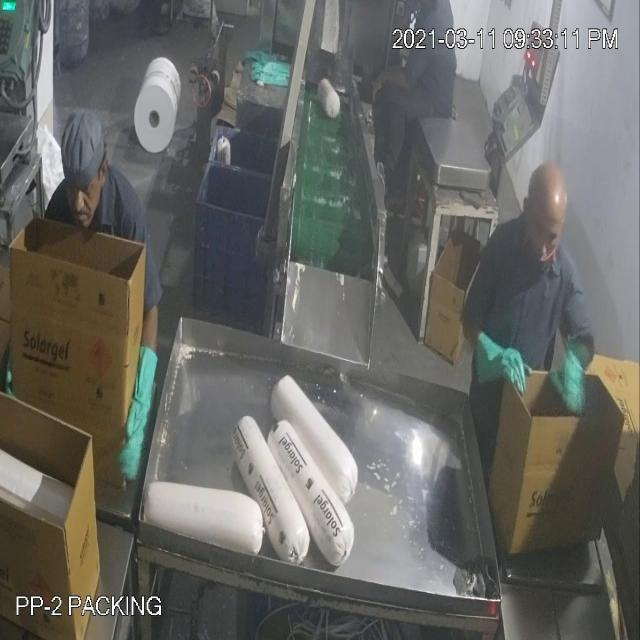Gloves: (55, 79, 500, 406)
